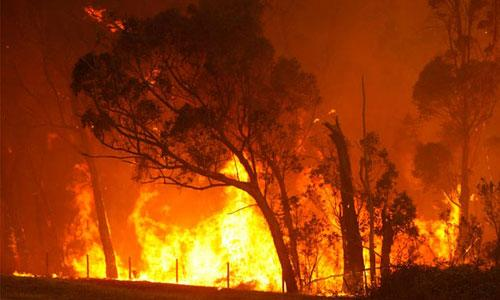fire: (56, 0, 283, 292), (70, 139, 315, 299), (387, 98, 500, 293)
